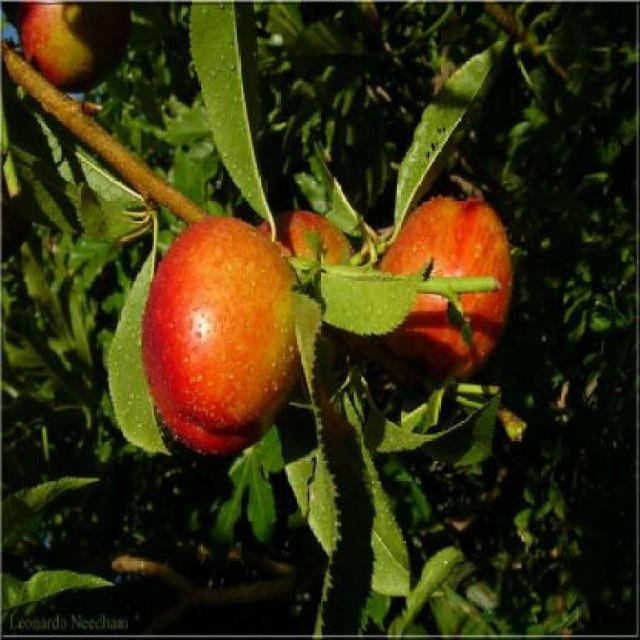Apple pie: (16, 12, 132, 91)
